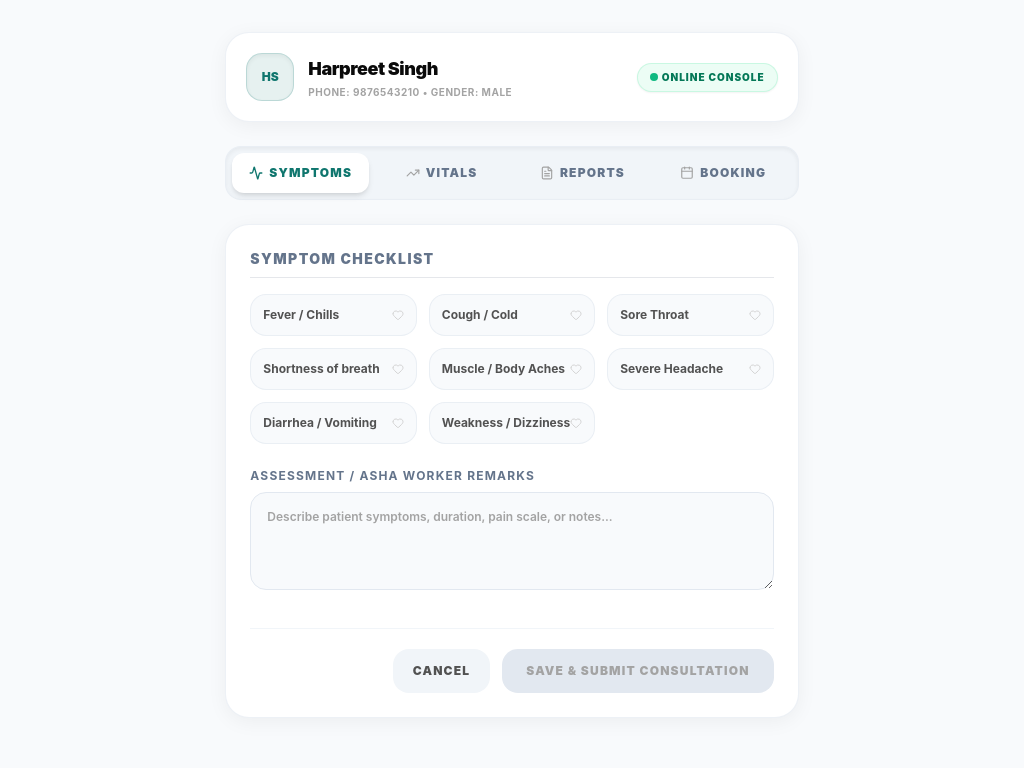
Test case: ASHAClinicalConsultation Component › renders clinical consultation page and toggles between tabs
The width and height of the screenshot is (1024, 768).
Expected: the heading "Harpreet Singh" is shown, [308,58,438,78]
Expected: the button "Symptoms" is shown, [232,153,369,193]
// Switch to Vitals Tab
Click the button "Vitals" at [442, 173], box [373,153,510,193]
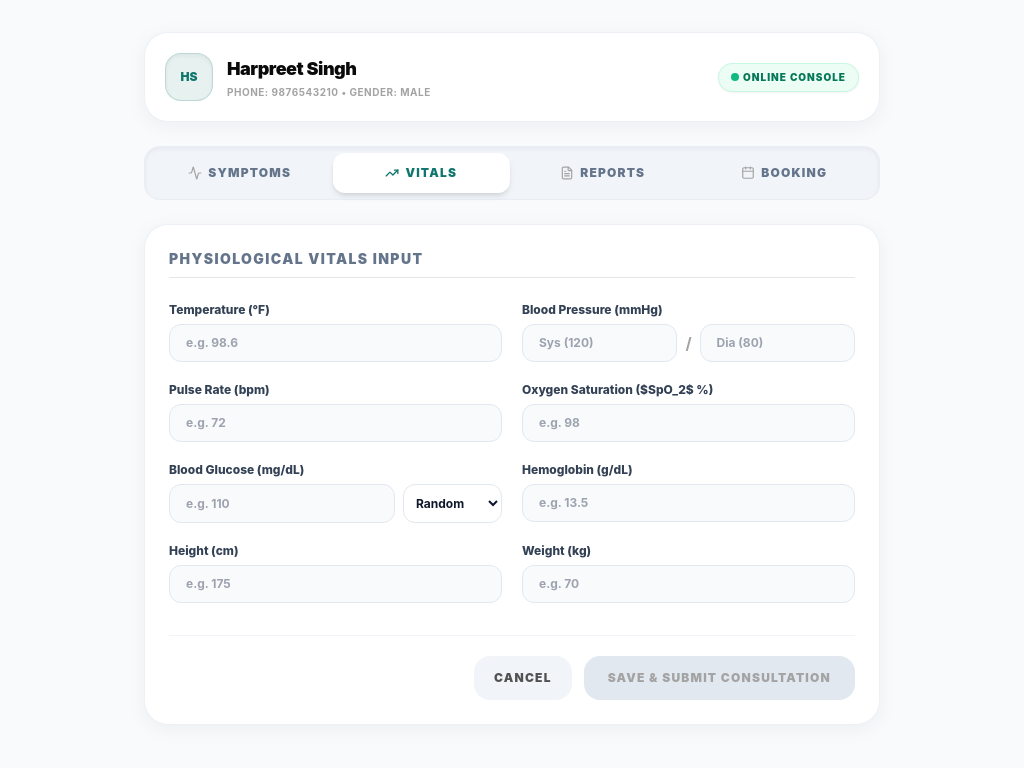
Now the number field with placeholder "e.g. 98.6" is shown, box [169,324,502,362]
// Switch to Reports Tab
Click the button "Reports" at [603, 173], box [514,153,692,193]
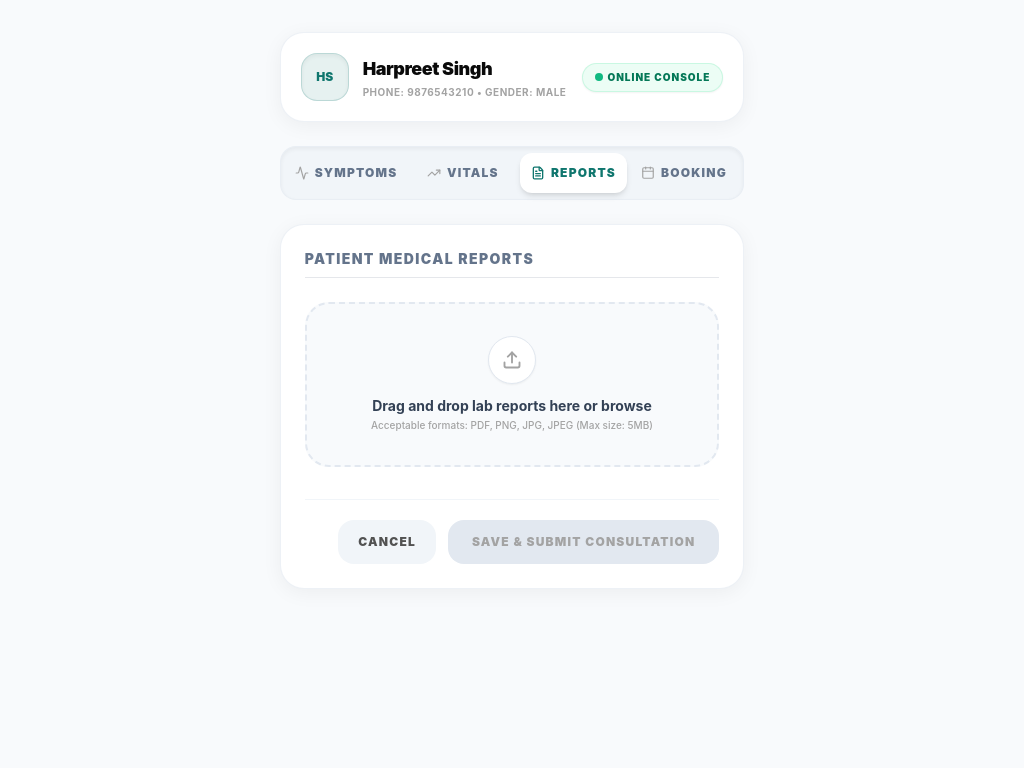
Now the text "Drag and drop lab reports here or browse" is shown, box [371,396,653,416]
// Switch to Booking Tab
Click the button "Booking" at [684, 173], box [631,153,737,193]
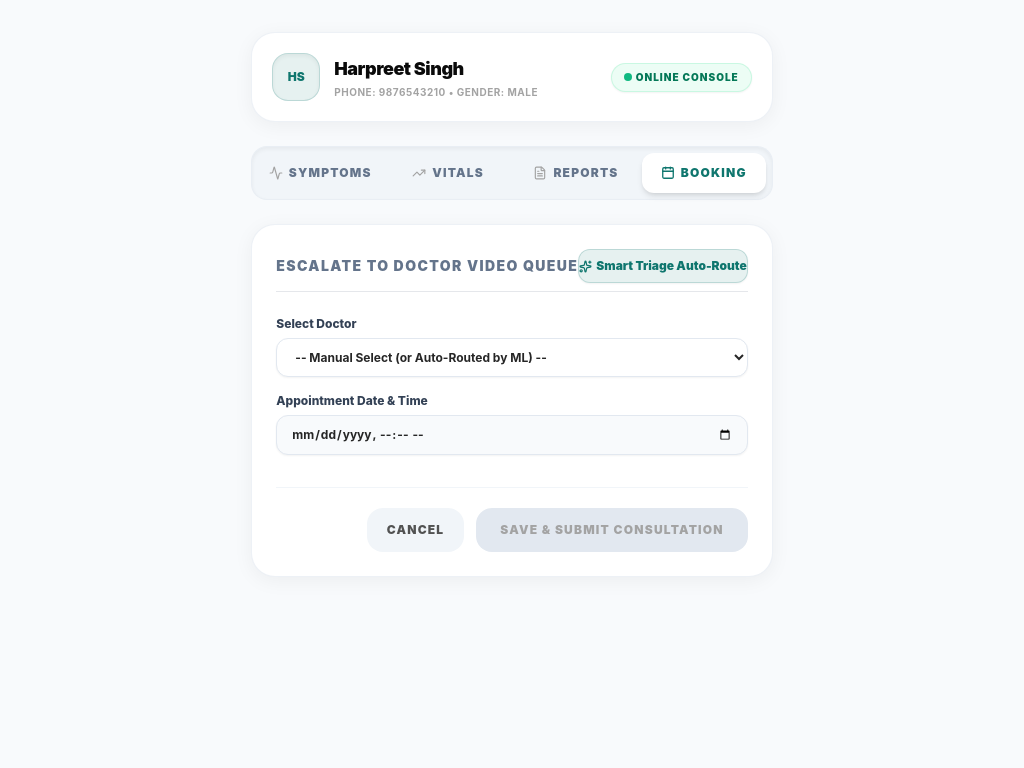
Now the button "Smart Triage Auto-Route" is shown, box [578,249,748,283]
